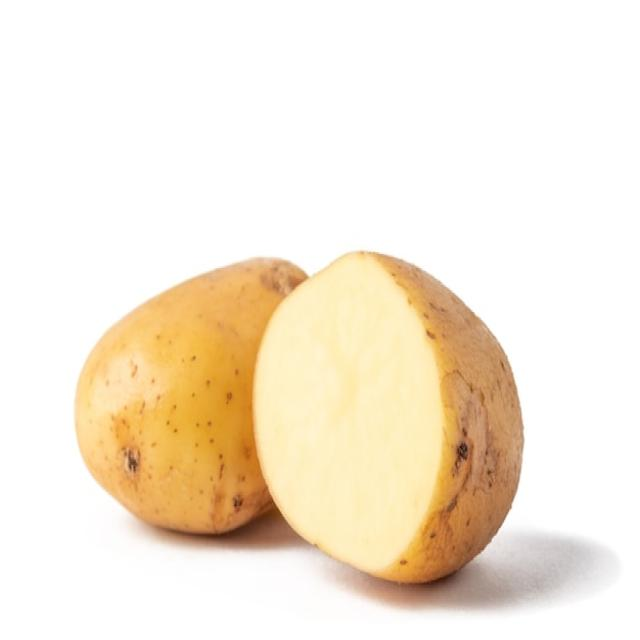Potato: (248, 235, 536, 593), (60, 242, 358, 548)
